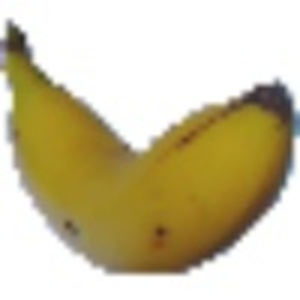banana: (1, 13, 297, 278)
